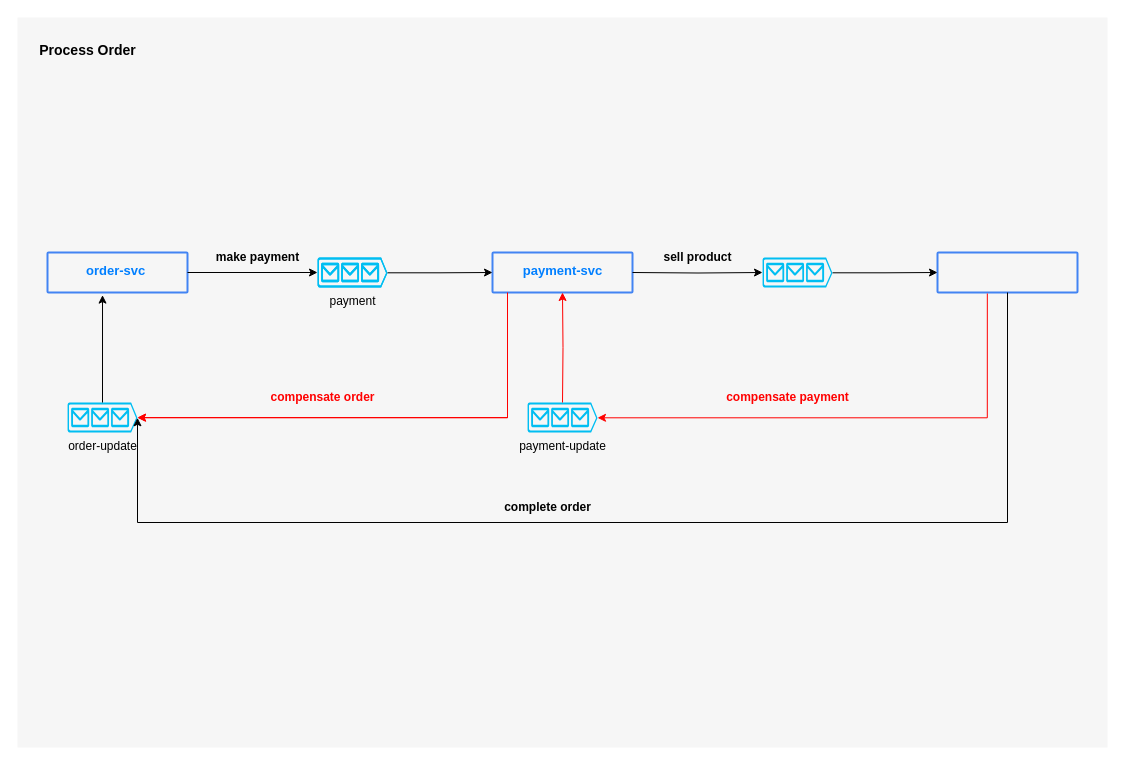
Image size: 1124x764. Some labels were removed from this diagram. Here are the shapes that lost their labels. From the top down, the centre of each, then its label:
At [797,272]: "product".
At [1007,272]: "product-svc".
